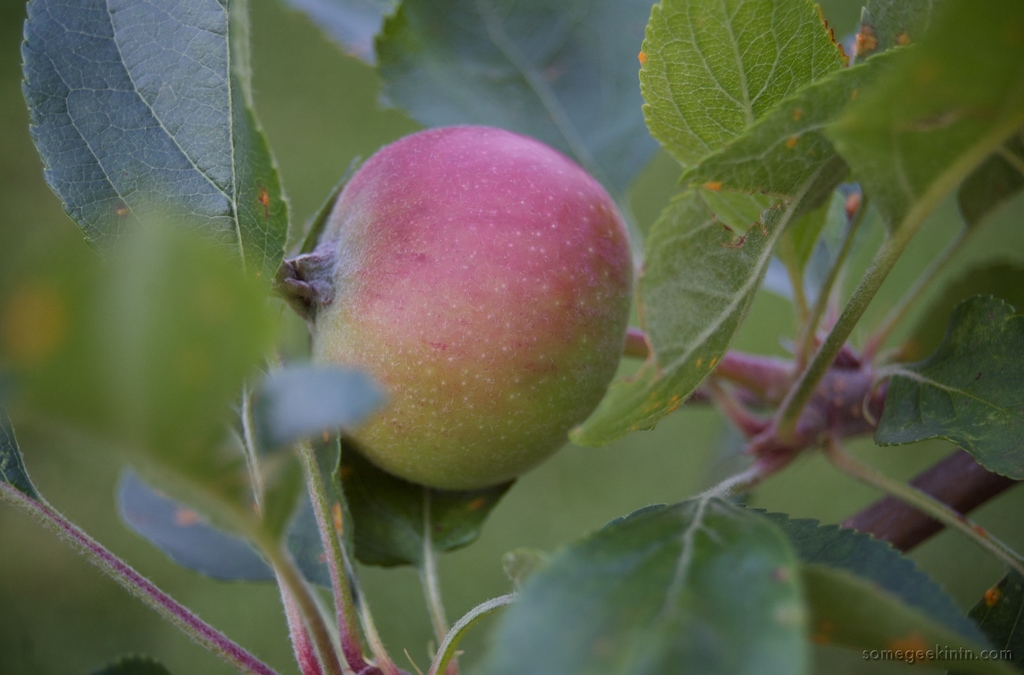Apple: (263, 121, 653, 487)
